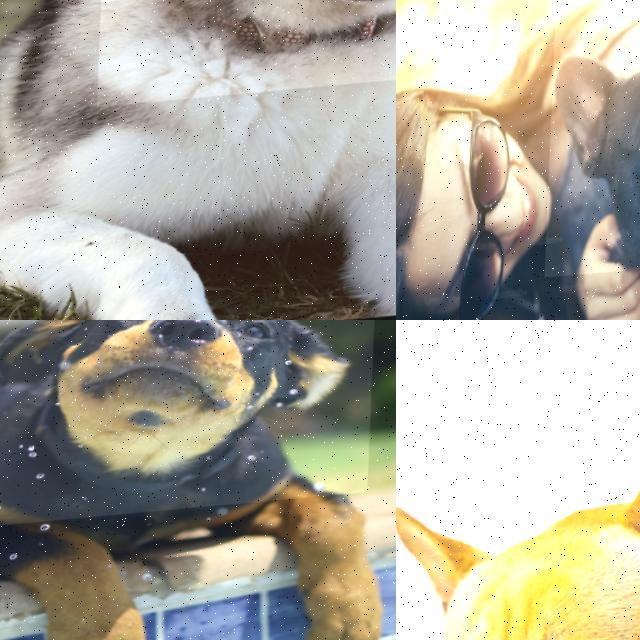bulldog: (396, 383, 640, 640), (544, 0, 640, 281)
husky: (94, 0, 396, 109)
rottweiler: (0, 320, 384, 531)
